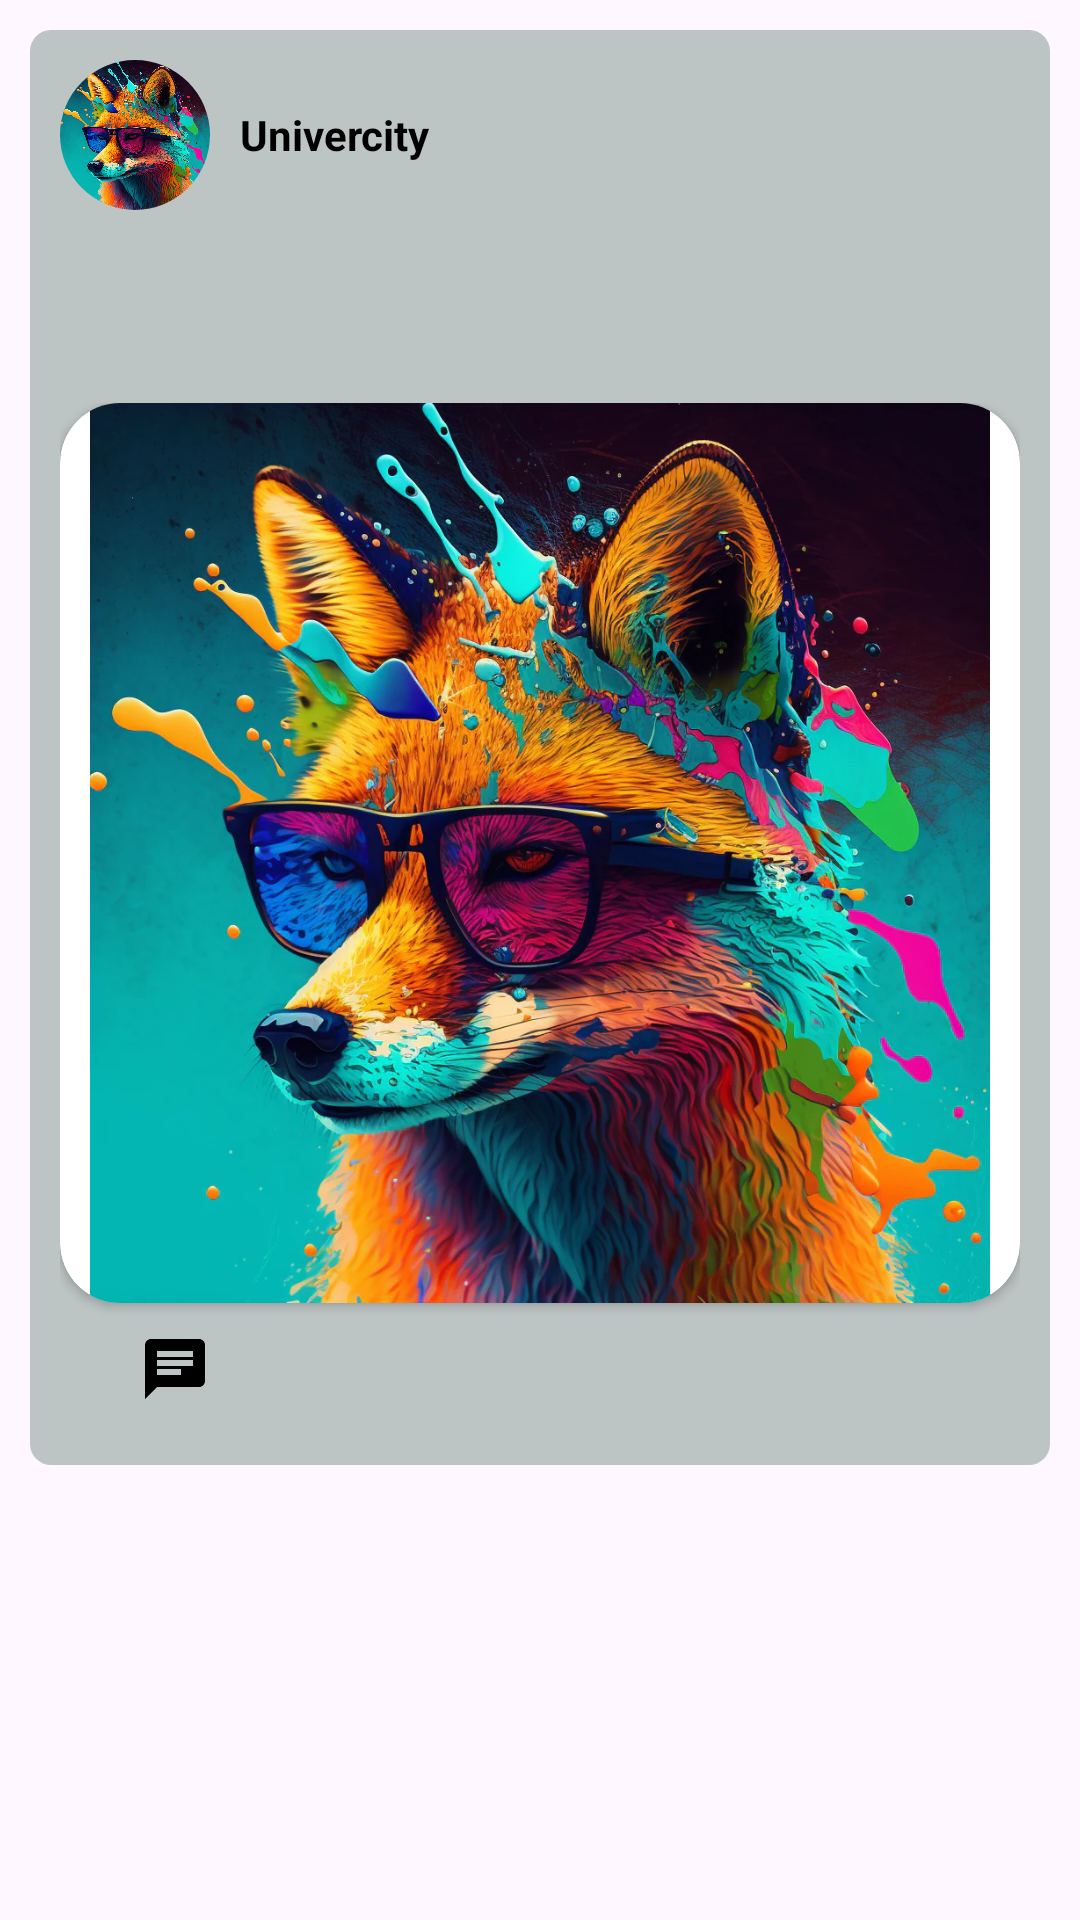

Icons on this 1080x1920 Android screen, each with its box as BBox(x1, y1, x2, y2):
chat: BBox(145, 1339, 205, 1399)
